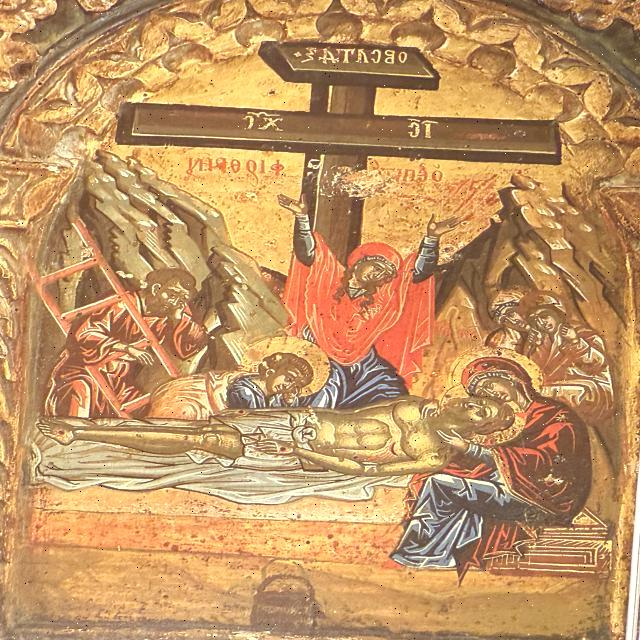aura: (237, 335, 335, 397), (451, 347, 553, 399), (438, 386, 524, 442)
christ_dead: (33, 387, 525, 477)
